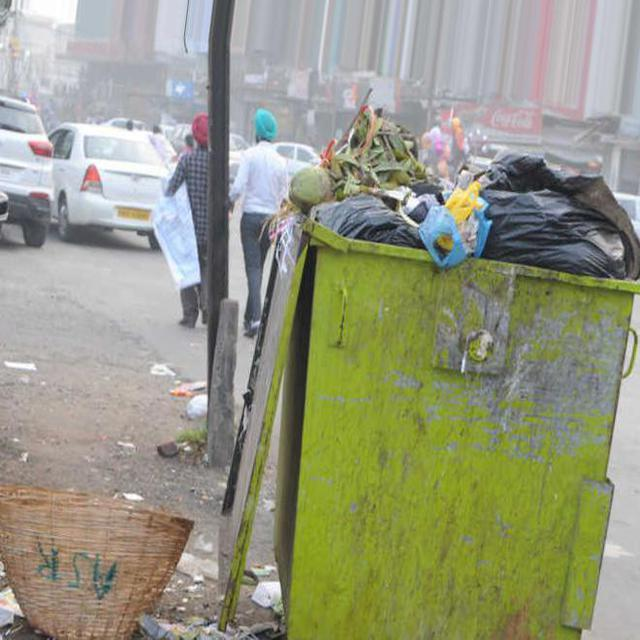garbage: (285, 97, 640, 287), (0, 469, 197, 640)
